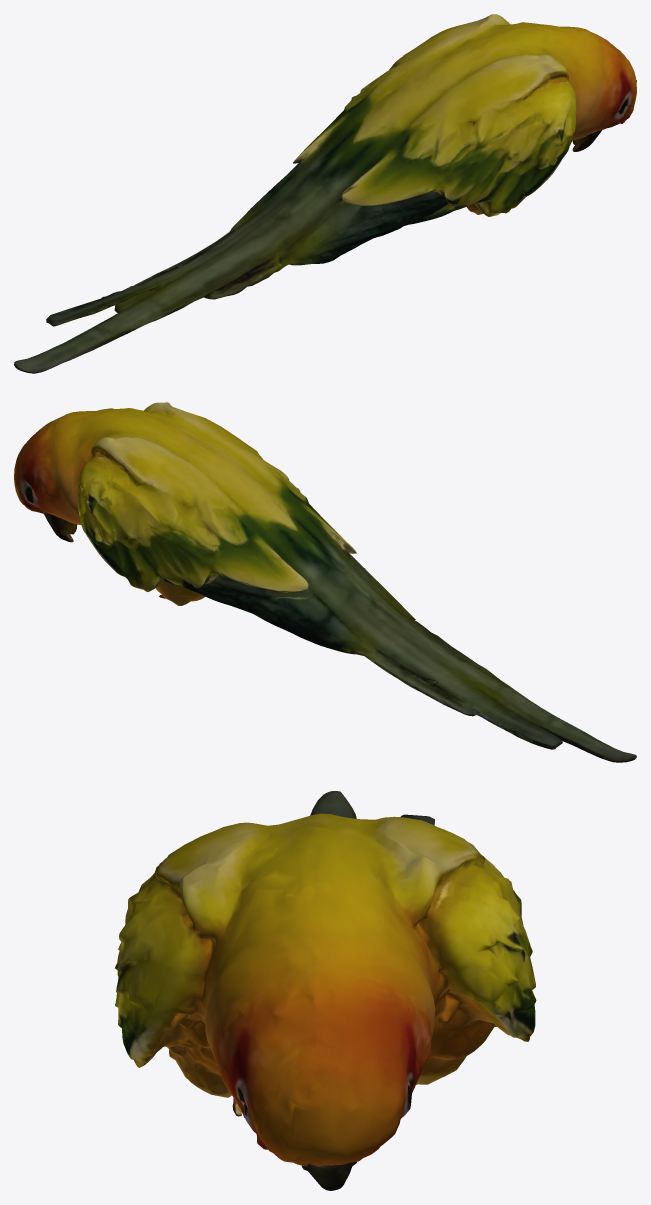
The model's file is juice.glb.
3 renders of one model, top to bottom at view 1: azimuth 30°, elevation 25°; view 2: azimuth 150°, elevation 25°; view 3: azimuth 270°, elevation 25°, orthographic. The views are drawn at different scales.
Visible parts, largest first — view 1: tripo_node_06575749-89dd-4d0f-a2ee-18d4c7e46d9d; view 2: tripo_node_06575749-89dd-4d0f-a2ee-18d4c7e46d9d; view 3: tripo_node_06575749-89dd-4d0f-a2ee-18d4c7e46d9d.
Boxes of the visible parts, box(x1,y1,x2,y2) form: tripo_node_06575749-89dd-4d0f-a2ee-18d4c7e46d9d: box(14, 14, 636, 373); tripo_node_06575749-89dd-4d0f-a2ee-18d4c7e46d9d: box(14, 402, 636, 762); tripo_node_06575749-89dd-4d0f-a2ee-18d4c7e46d9d: box(115, 791, 536, 1190).
Bounding box in the file's own units: 0.9997 × 0.3473 × 0.2971.
1 material, 1 textured.
